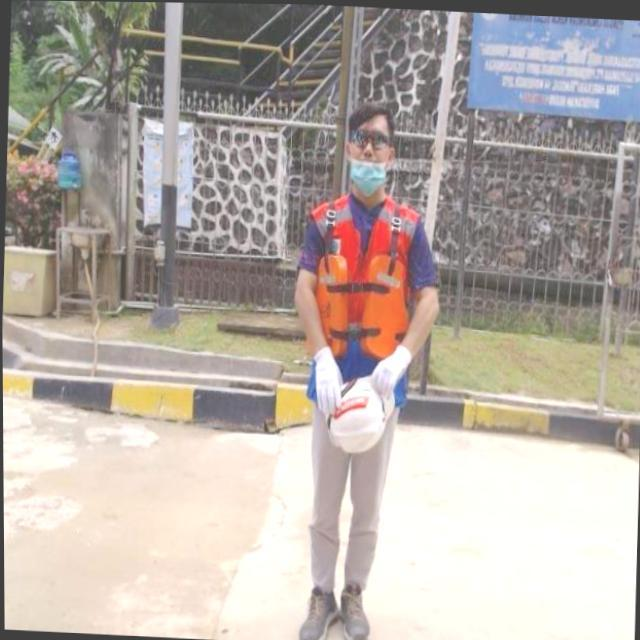goggles_on: (345, 120, 398, 155)
